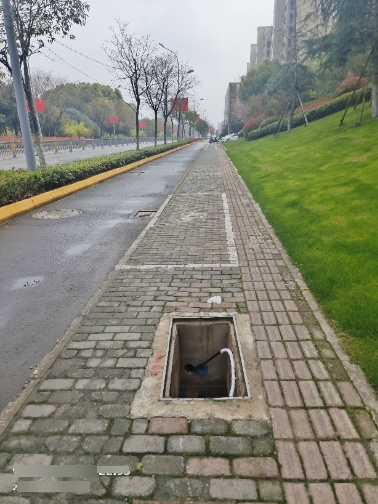lose: (161, 315, 253, 400)
